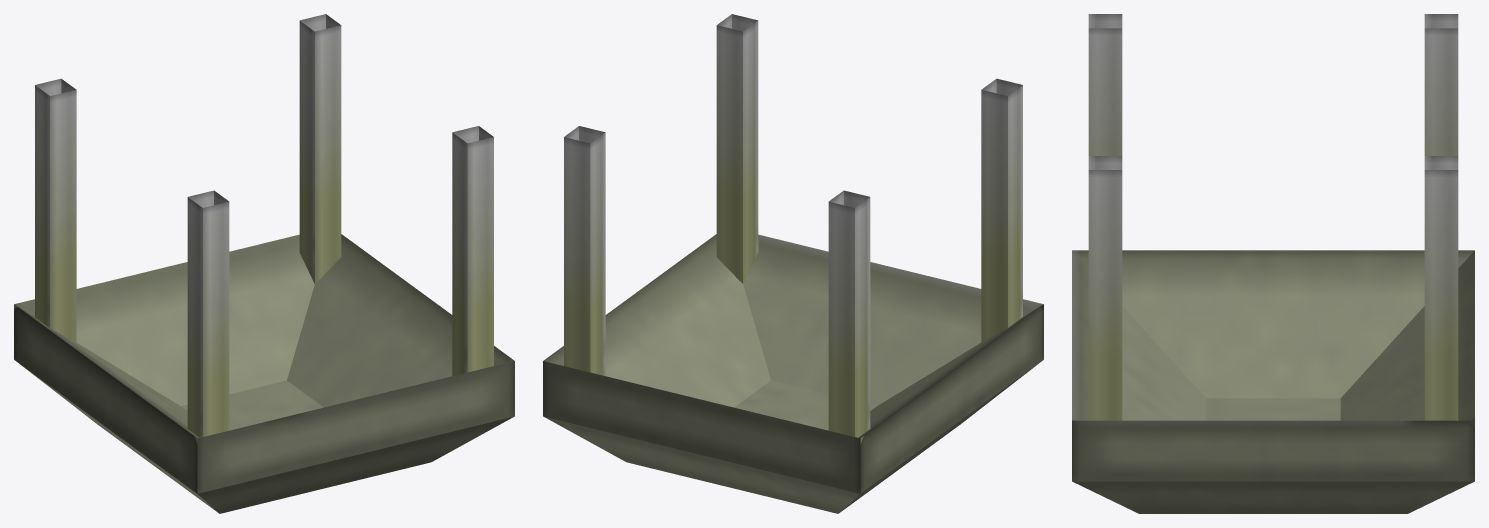
File: bucket.obj
3 renders of one model, left to right at view 1: azimuth 30°, elevation 25°; view 2: azimuth 150°, elevation 25°; view 3: azimuth 270°, elevation 25°, orthographic. The views are drawn at different scales.
Size of the model in its own units: 1.5 by 1.5 by 1.5.
